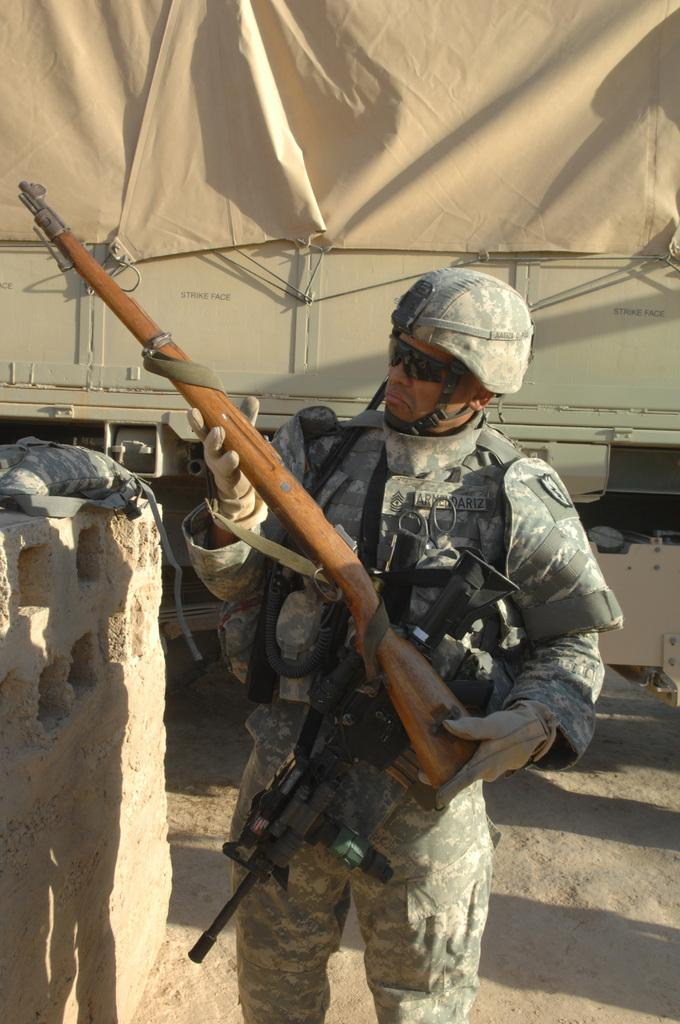Rifle: (17, 184, 471, 785)
